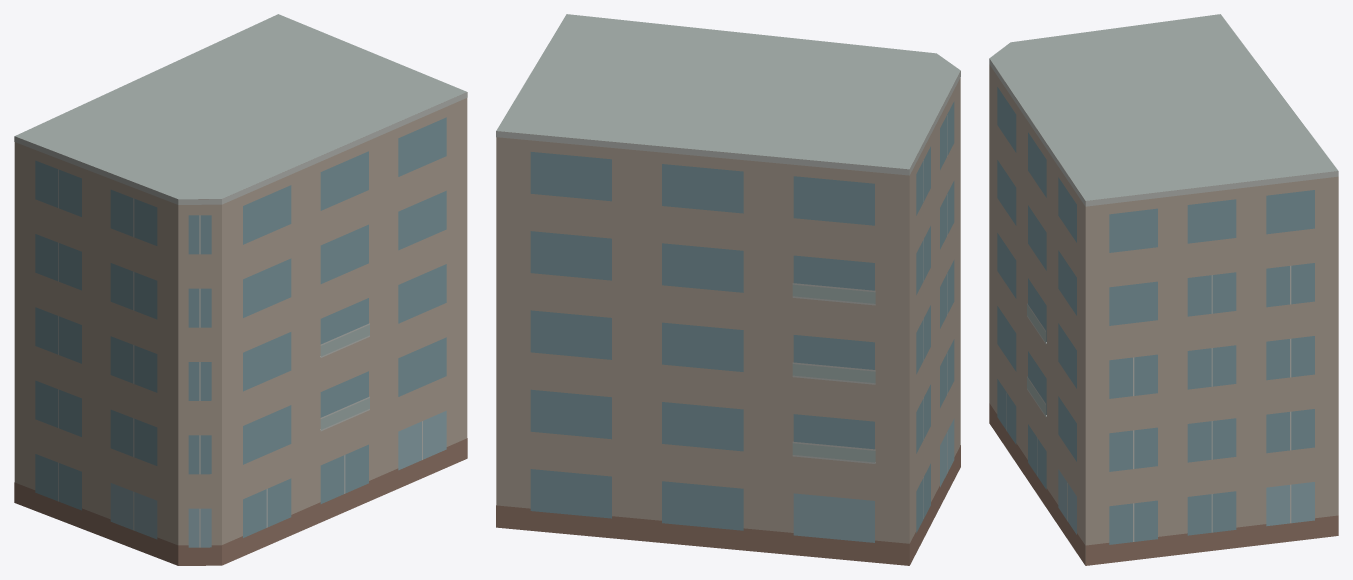
The model's file is survey-upis-32698183.glb.
The picture shows the model from 3 angles, left to right: view 1: azimuth 30°, elevation 25°; view 2: azimuth 150°, elevation 25°; view 3: azimuth 270°, elevation 25°; orthographic projection. The views are drawn at different scales.
Parts seen in each view (by area): view 1: survey-upis-32698183.tmp; view 2: survey-upis-32698183.tmp; view 3: survey-upis-32698183.tmp.
Part boxes in pixels (x1=…): survey-upis-32698183.tmp: x1=14, y1=14, x2=467, y2=565; survey-upis-32698183.tmp: x1=496, y1=14, x2=960, y2=565; survey-upis-32698183.tmp: x1=989, y1=14, x2=1338, y2=565.
Bounding box in the file's own units: 17.21 × 15.65 × 13.58.
